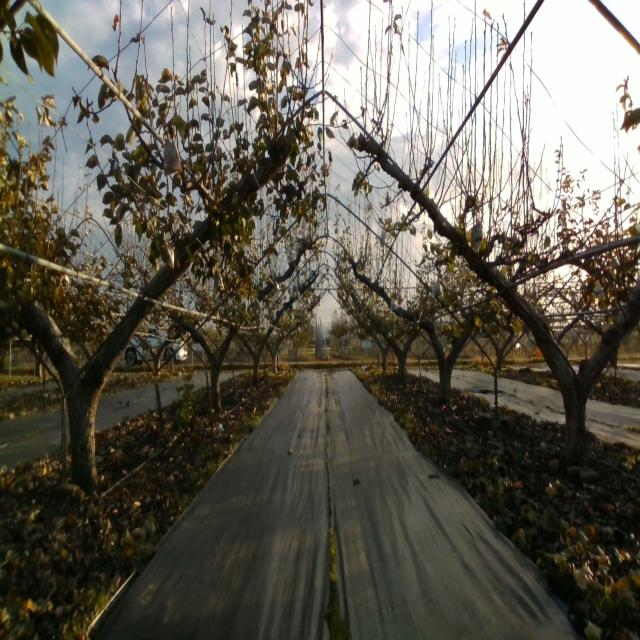pearbags: (163, 130, 183, 177), (470, 217, 483, 249), (433, 280, 444, 298)
